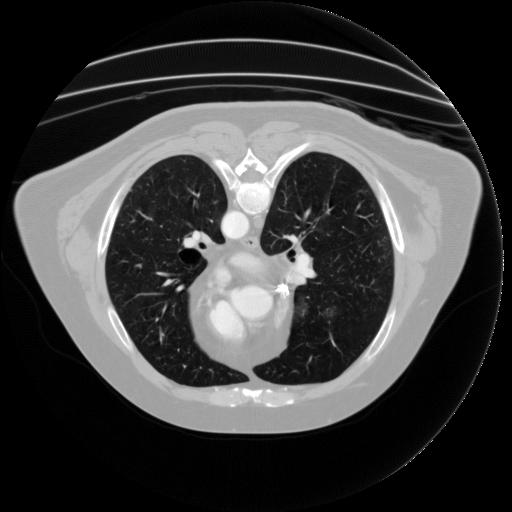nodule: (290, 298, 313, 321)
